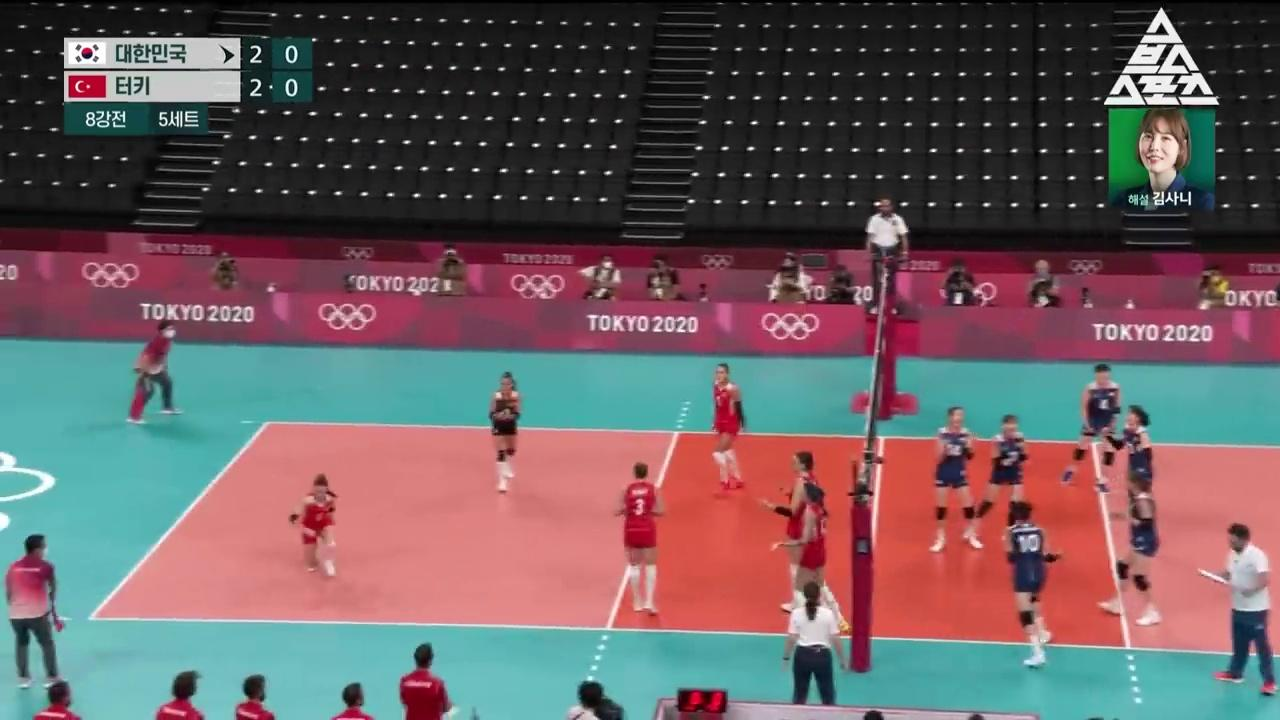player: (759, 451, 834, 614), (772, 486, 852, 632), (1097, 471, 1162, 625), (1006, 502, 1062, 666), (964, 415, 1031, 545), (614, 462, 666, 614), (930, 407, 984, 551), (1061, 364, 1120, 494), (1103, 405, 1153, 546), (289, 474, 338, 576), (712, 363, 745, 494), (489, 372, 520, 492)
referee: (783, 581, 847, 706), (866, 199, 908, 314)
